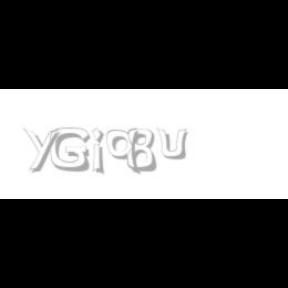8: (128, 128, 156, 172)
G: (50, 128, 90, 172)
i: (92, 128, 108, 176)
q: (106, 128, 142, 176)
u: (156, 128, 191, 160)
y: (23, 128, 63, 172)
